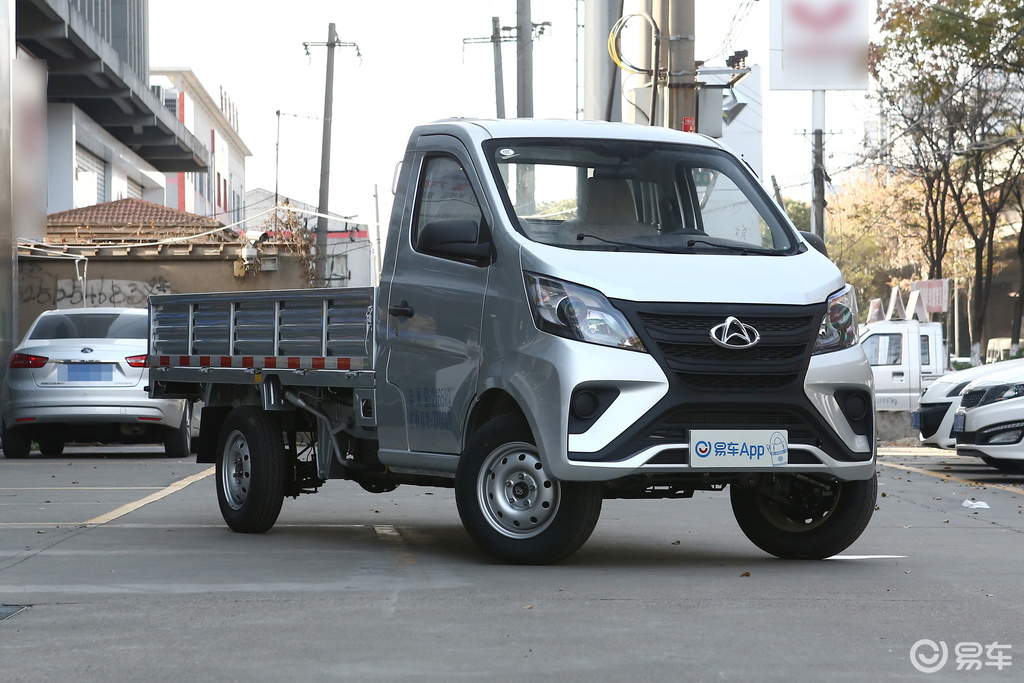smalltruck: (129, 114, 912, 582)
